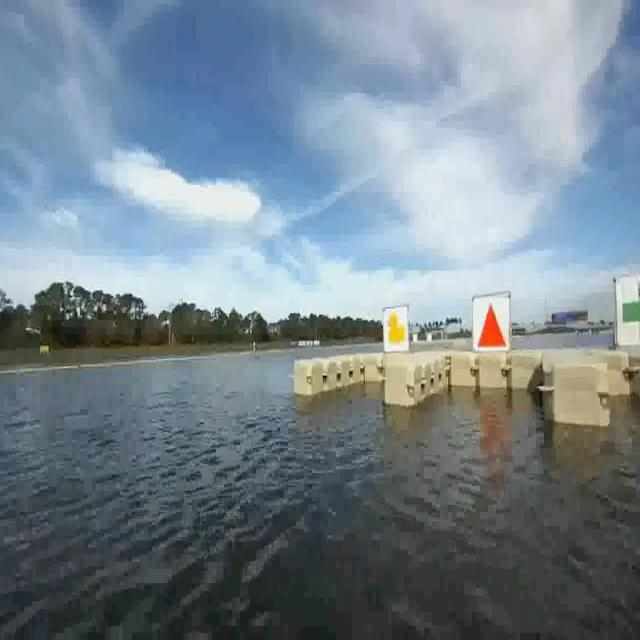blue-cross: (616, 274, 640, 348)
red-dot: (474, 296, 511, 354)
yellow-duck: (384, 305, 412, 351)
